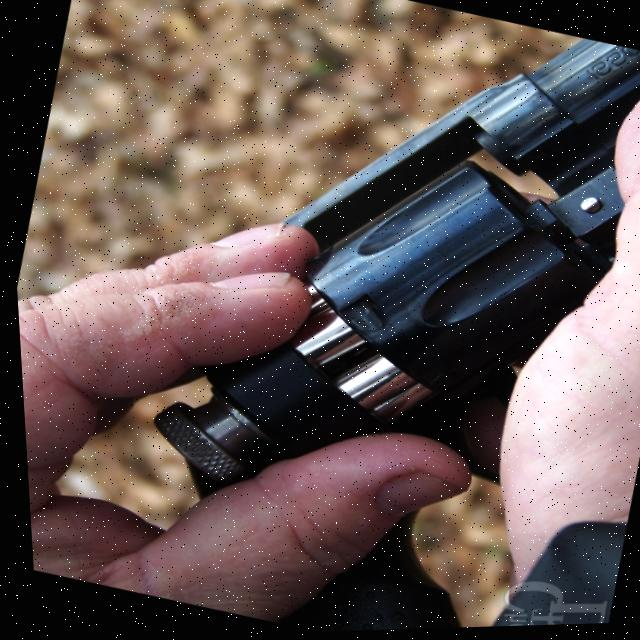pistol: (82, 0, 640, 638)
